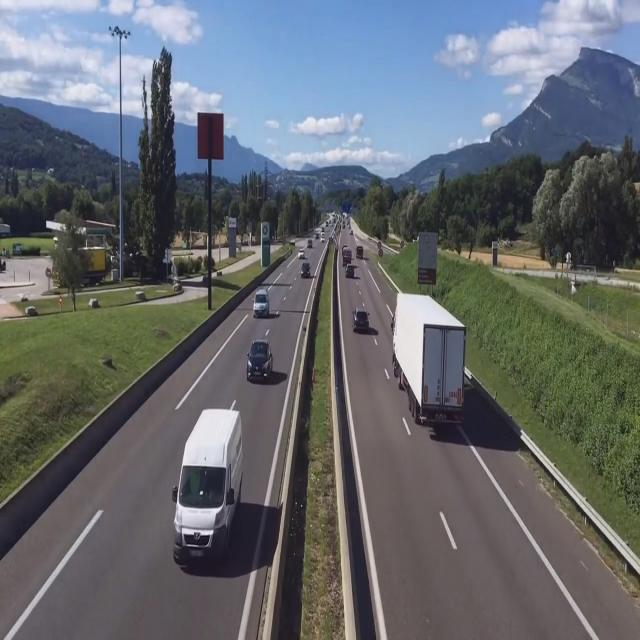bus: (173, 407, 244, 570)
car: (248, 339, 276, 384), (255, 288, 274, 319), (352, 308, 369, 334)
truck: (391, 292, 464, 432)
